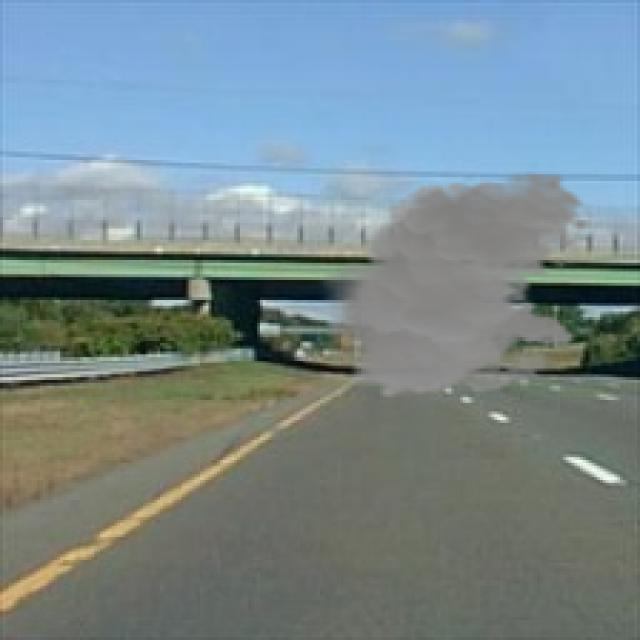Smoke: (312, 171, 592, 400)
